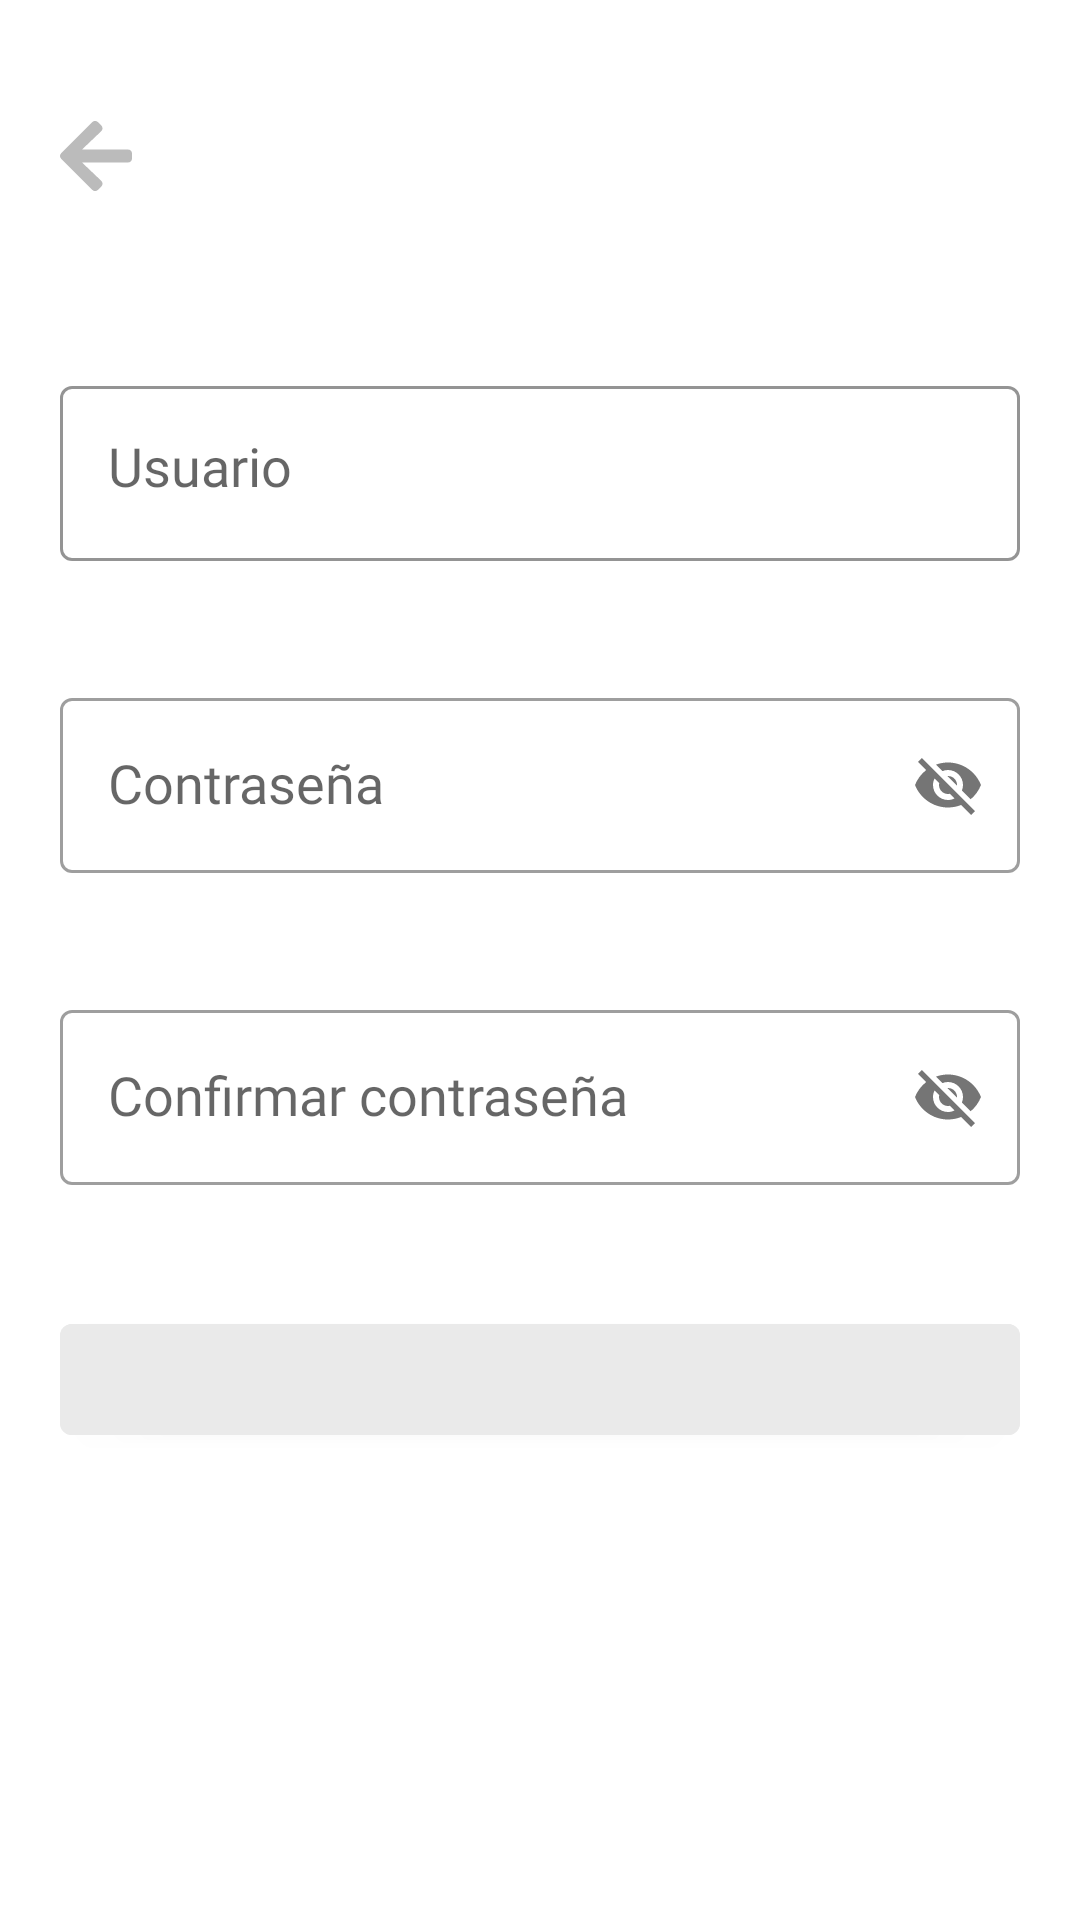

Icon bounding boxes for this 1080×1920 phone screenshot, format (left=x1, top=y1, right=x2, bottom=y2):
arrow back: (left=60, top=121, right=132, bottom=191)
